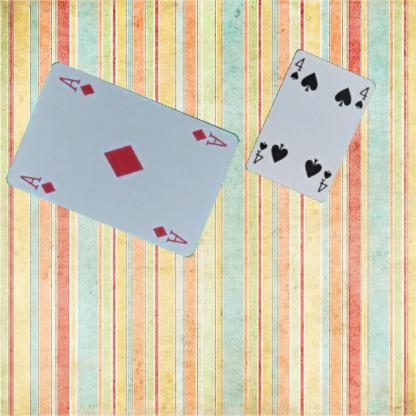4s: (288, 55, 306, 81), (315, 167, 333, 193)
Ad: (18, 172, 58, 195), (189, 126, 229, 148)
